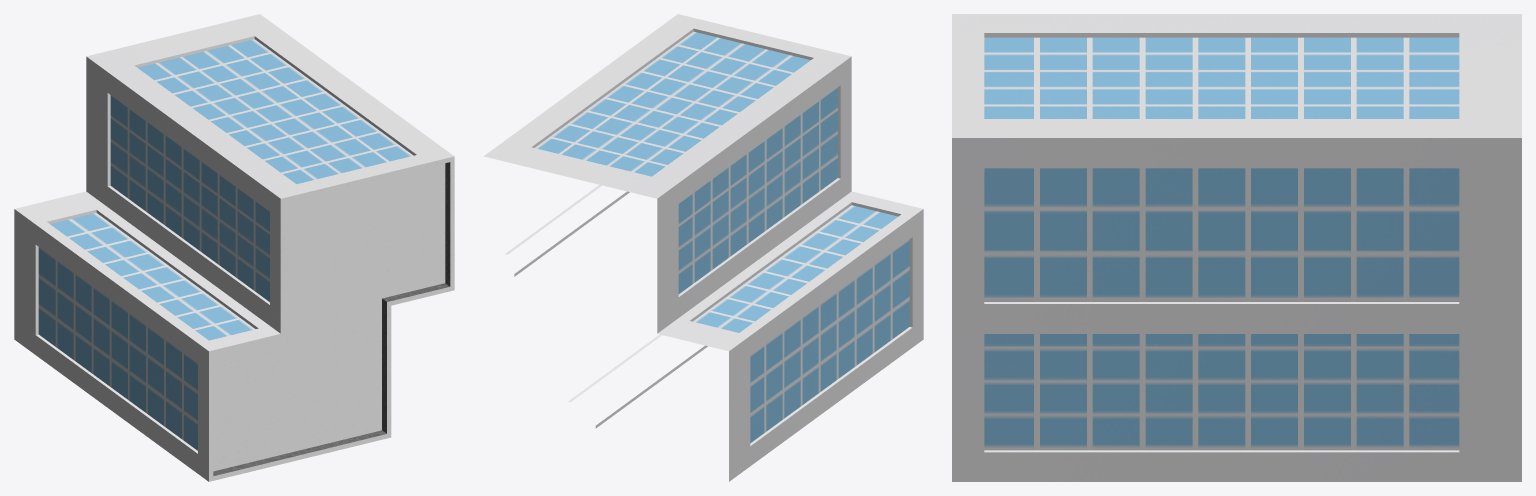
File: yhc.glb
The picture shows the model from 3 angles, left to right: view 1: azimuth 30°, elevation 25°; view 2: azimuth 150°, elevation 25°; view 3: azimuth 270°, elevation 25°; orthographic projection. The views are drawn at different scales.
Parts seen in each view (by area): view 1: Box01_0; view 2: Box01_0; view 3: Box01_0.
Part boxes in pixels (<box>): Box01_0: <box>14,14,454,481</box>; Box01_0: <box>483,14,923,481</box>; Box01_0: <box>952,14,1521,481</box>.
Bounding box in the file's own units: 8.61 × 8.9 × 11.81.
1 material, 1 textured.
